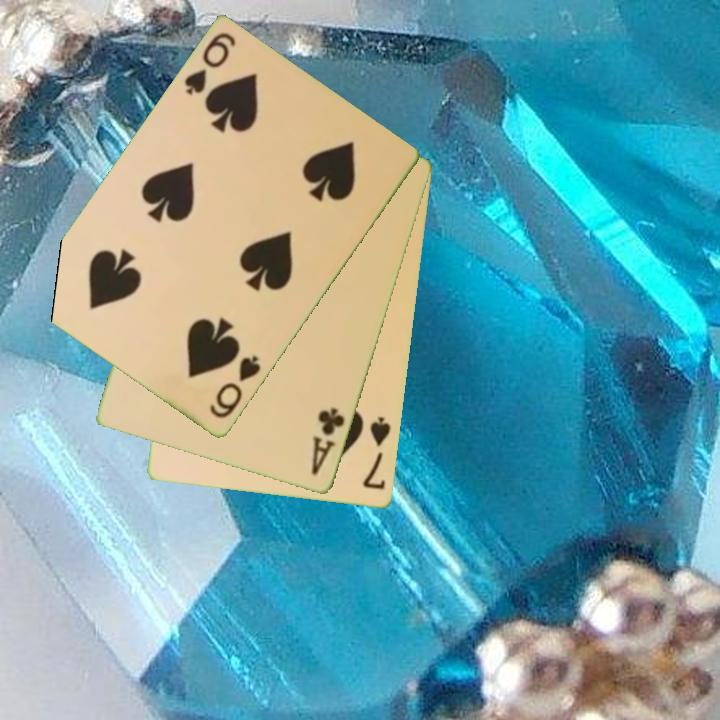6s: (180, 29, 239, 99), (206, 352, 264, 422)
7s: (360, 414, 394, 493)
Ac: (308, 404, 348, 479)
